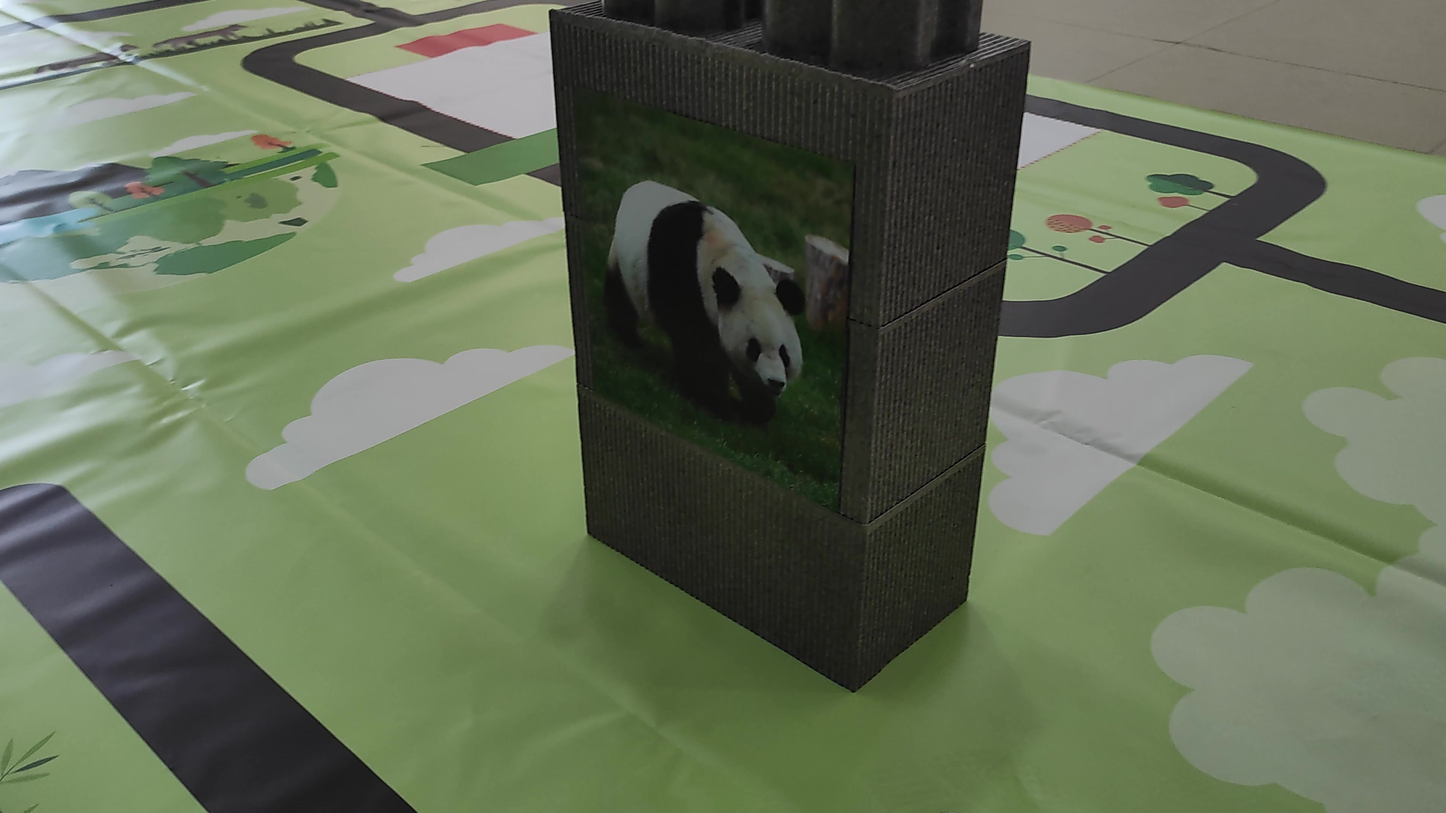panda: (586, 169, 819, 431)
